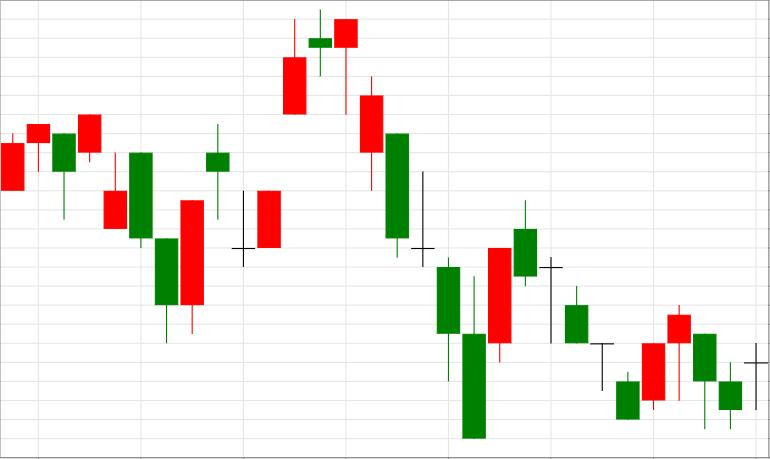hanging_man_fall: (180, 10, 359, 334)
